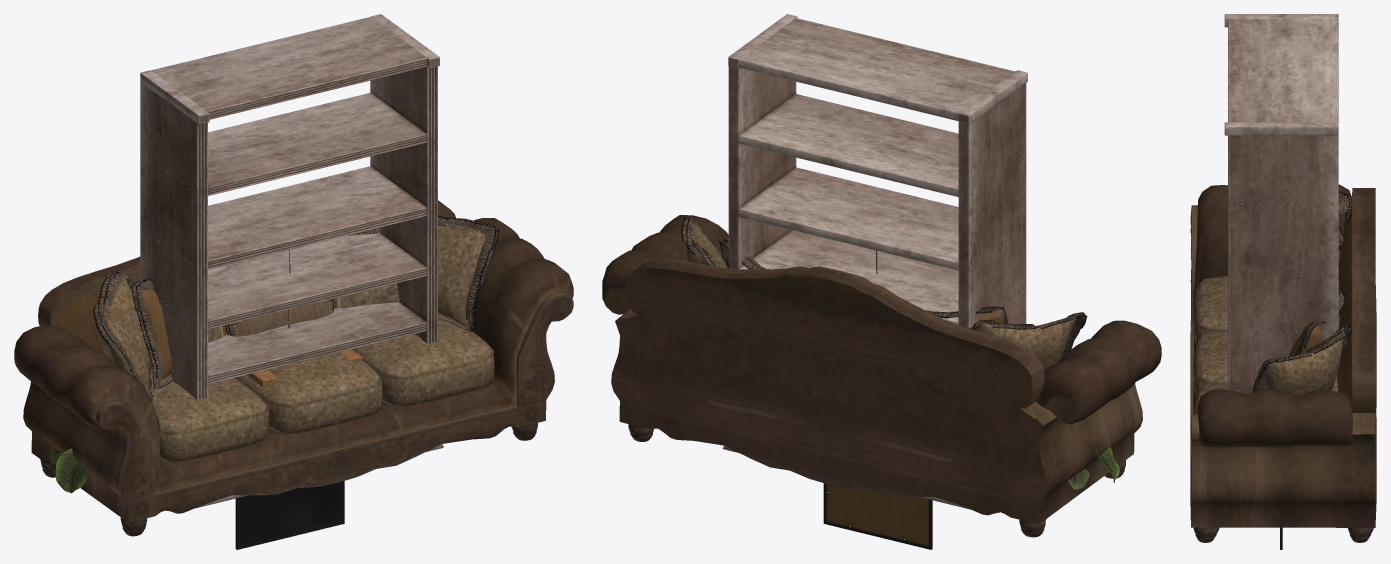
File: raum-wohnzimmer.glb
3 renders of one model, left to right at view 1: azimuth 30°, elevation 25°; view 2: azimuth 150°, elevation 25°; view 3: azimuth 270°, elevation 25°, orthographic. The views are drawn at different scales.
Visible parts, largest first — view 1: sofa_03, wooden_bookshelf_worn, hanging_picture_frame_01, calathea_orbifolia_01_a; view 2: sofa_03, wooden_bookshelf_worn, hanging_picture_frame_01; view 3: sofa_03, wooden_bookshelf_worn.
Part boxes in pixels (bbox=[...]): sofa_03: bbox=[14, 200, 573, 536]; wooden_bookshelf_worn: bbox=[140, 14, 443, 508]; hanging_picture_frame_01: bbox=[235, 481, 344, 549]; calathea_orbifolia_01_a: bbox=[49, 445, 87, 493]; sofa_03: bbox=[602, 215, 1161, 537]; wooden_bookshelf_worn: bbox=[722, 14, 1027, 509]; hanging_picture_frame_01: bbox=[823, 483, 932, 549]; sofa_03: bbox=[1190, 184, 1376, 542]; wooden_bookshelf_worn: bbox=[1224, 14, 1338, 394].
Size of the model in its own units: 2.73 by 2.48 by 0.9251.
13 materials, 13 textured.
